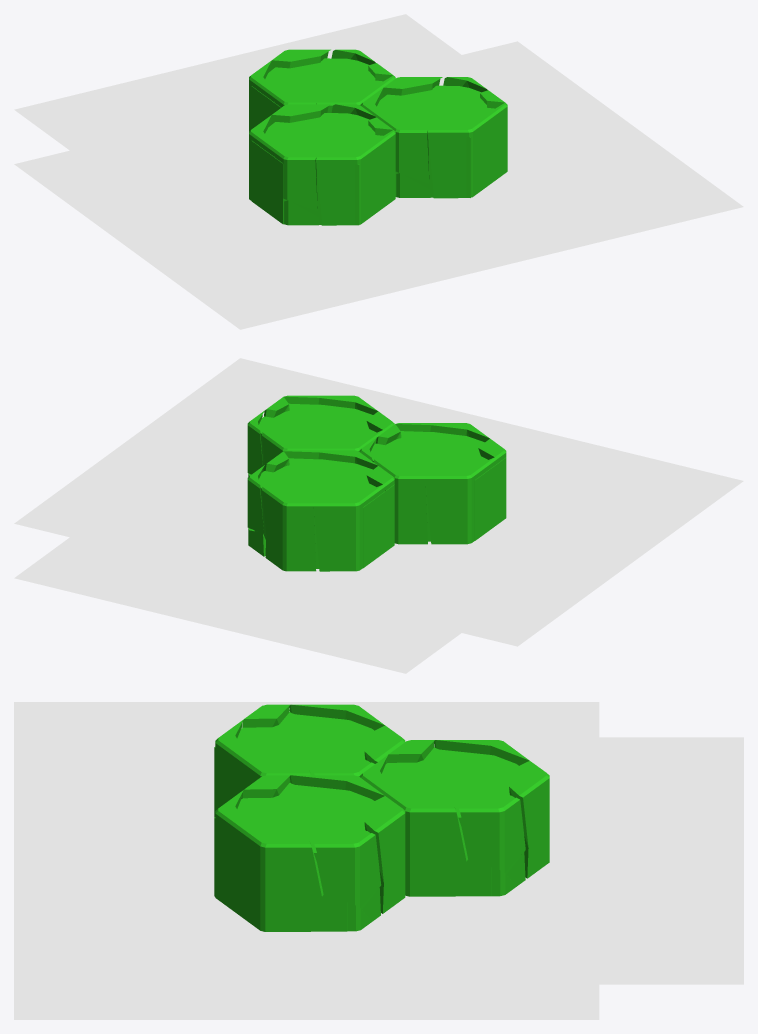
File: Rotate2Sec.fbx
The picture shows the model from 3 angles, top to bottom: view 1: azimuth 30°, elevation 25°; view 2: azimuth 150°, elevation 25°; view 3: azimuth 270°, elevation 25°; orthographic projection. The views are drawn at different scales.
Parts seen in each view (by area): view 1: Shadow (×3), Model (×3), HexGib04 (×3), HexGib02 (×2), HexGib09 (×3), HexGib01 (×2), HexGib03 (×2); view 2: Shadow (×3), Model (×3), HexGib09 (×3), HexGib01 (×2), HexGib04 (×3), HexGib06 (×2); view 3: Shadow (×3), Model (×3), HexGib05 (×2), HexGib04 (×3), HexGib09 (×3), HexGib06 (×2), HexGib01 (×3), HexGib02 (×3).
Boxes of the visible parts, bbox=[...] form: Shadow (×3): bbox=[14, 14, 743, 329]; Model (×3): bbox=[251, 58, 494, 225]; HexGib04 (×3): bbox=[316, 75, 507, 225]; HexGib02 (×2): bbox=[274, 121, 429, 211]; HexGib09 (×3): bbox=[271, 49, 442, 124]; HexGib01 (×2): bbox=[249, 60, 275, 200]; HexGib03 (×2): bbox=[284, 173, 430, 225]; Shadow (×3): bbox=[14, 358, 743, 673]; Model (×3): bbox=[254, 403, 506, 568]; HexGib09 (×3): bbox=[262, 432, 427, 571]; HexGib01 (×2): bbox=[313, 457, 496, 571]; HexGib04 (×3): bbox=[283, 395, 489, 469]; HexGib06 (×2): bbox=[247, 410, 264, 533]; Shadow (×3): bbox=[14, 702, 743, 1019]; Model (×3): bbox=[214, 712, 519, 931]; HexGib05 (×2): bbox=[265, 801, 467, 931]; HexGib04 (×3): bbox=[215, 719, 411, 931]; HexGib09 (×3): bbox=[364, 725, 549, 913]; HexGib06 (×2): bbox=[314, 797, 525, 907]; HexGib01 (×3): bbox=[289, 704, 529, 800]; HexGib02 (×3): bbox=[242, 704, 434, 798].
Bounding box in the file's own units: 2.62 × 0.3461 × 2.54.
Materials: 2 (1 with a texture image).
